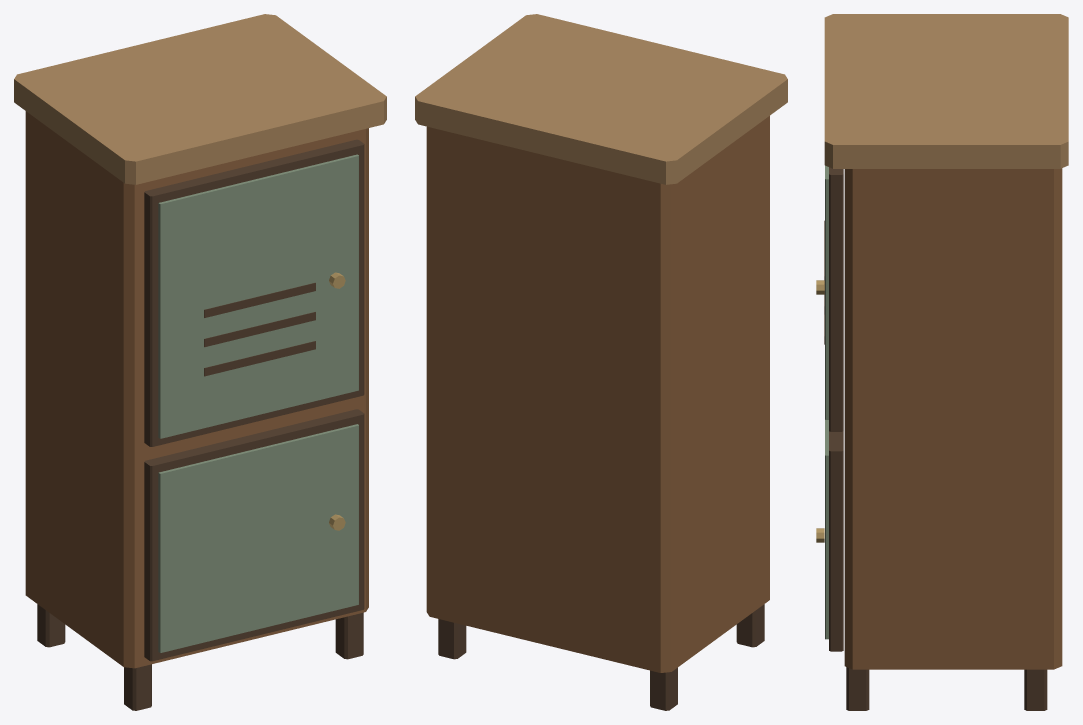
File: fridge_wood.glb
3 views of the same model, side by side, from view 1: azimuth 30°, elevation 25°; view 2: azimuth 150°, elevation 25°; view 3: azimuth 270°, elevation 25° (orthographic). The views are drawn at different scales.
Visible parts, largest first — view 1: geometry; view 2: geometry; view 3: geometry.
Part boxes in pixels (box(x1,y1,x2,y2)): geometry: box(14, 14, 386, 710); geometry: box(415, 14, 787, 710); geometry: box(816, 14, 1068, 710).
Bounding box in the file's own units: 0.94 × 1.92 × 0.766.
